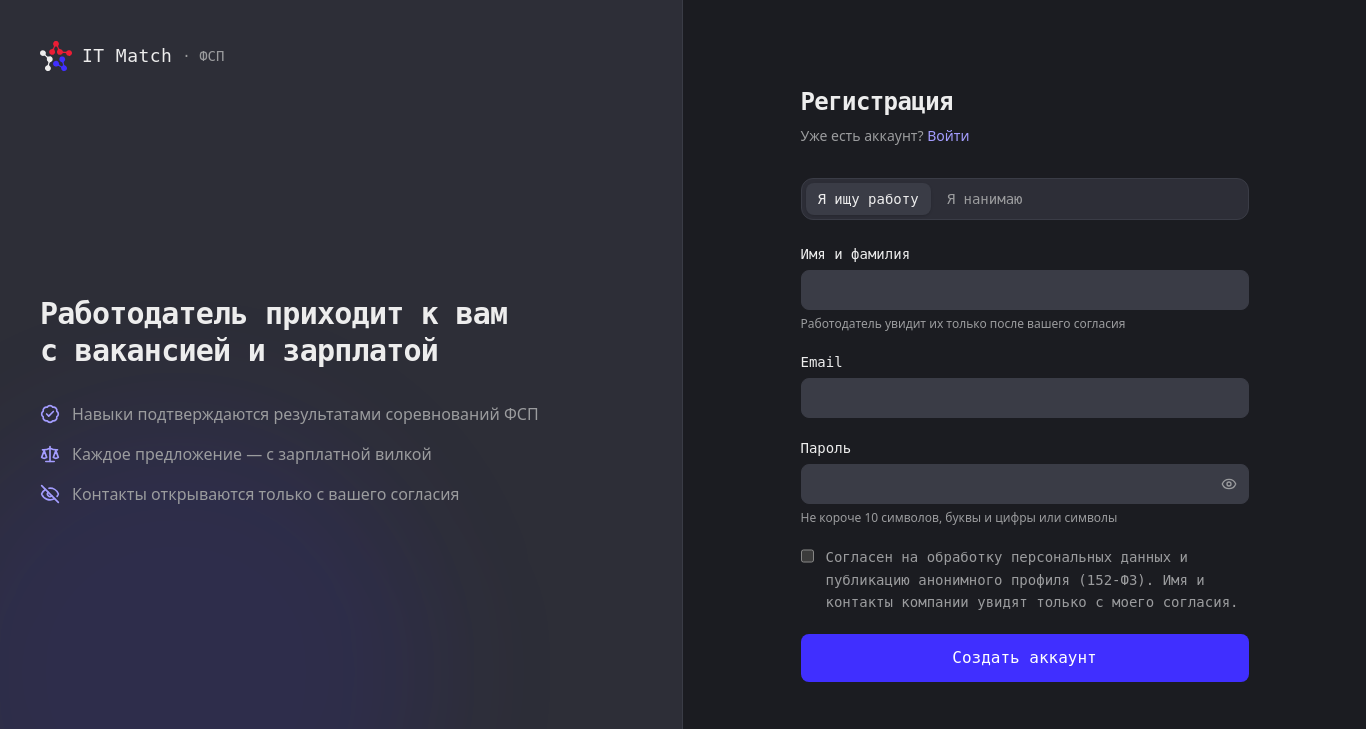
Test: pitch next to the form › speaks to the side that registers
expect the list item "Каждое предложение — с зарплатной вилкой" is shown: met, box [40,442,432,464]
Click the radio button labelled "Я нанимаю" at [985, 199], box [935,183,1035,215]
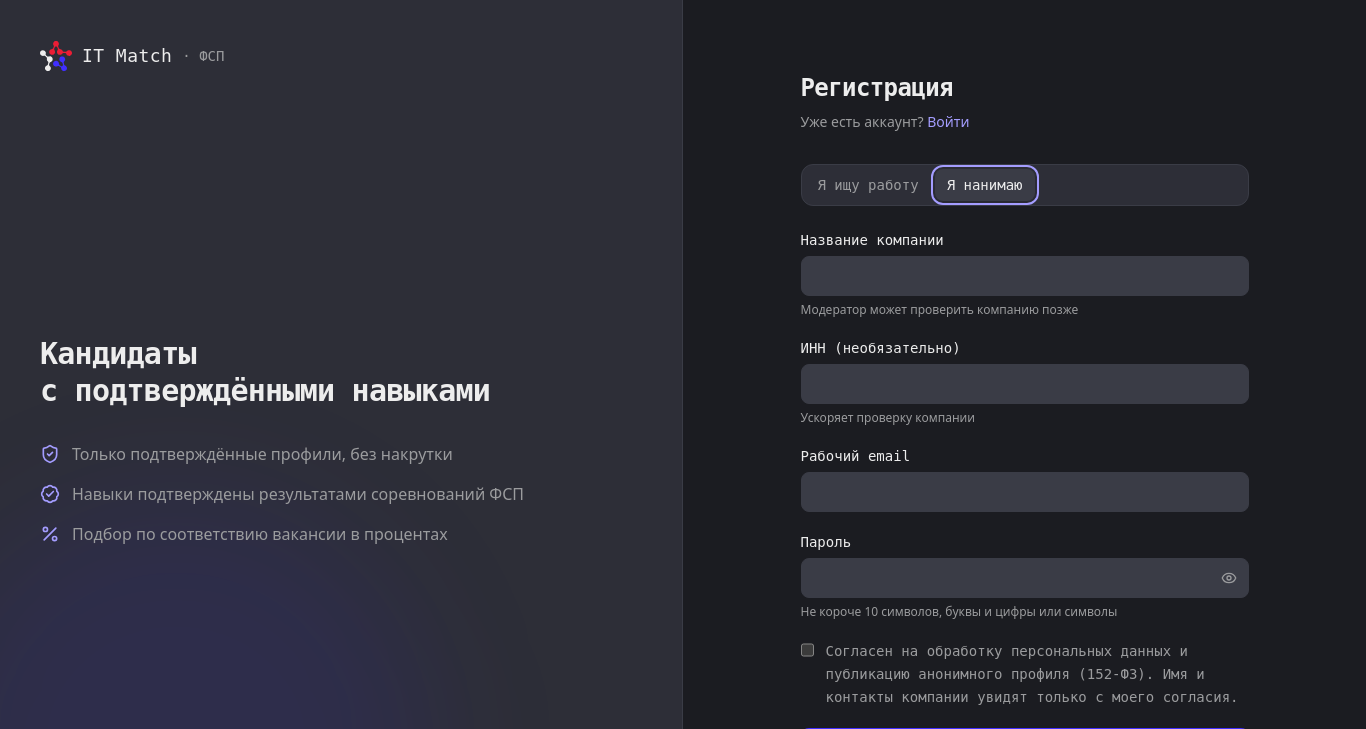
expect the list item "Только подтверждённые профили, без накрутки" is shown: met, box [40,443,453,465]
expect the list item "Каждое предложение — с зарплатной вилкой" is gone: met
